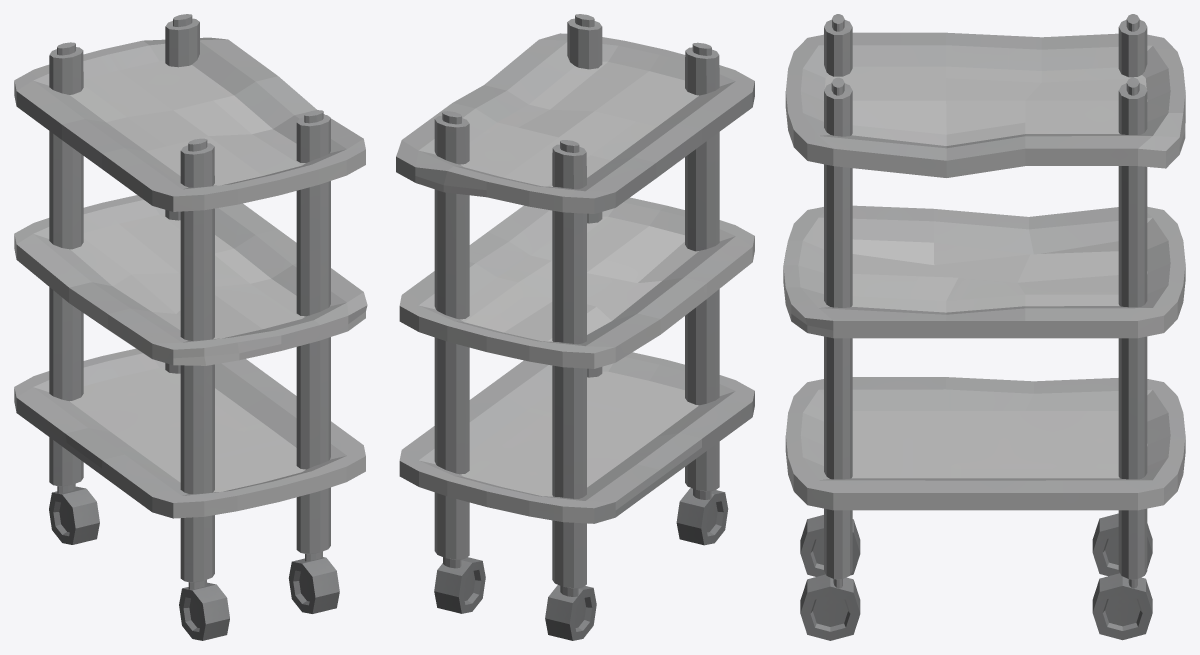
File: tray_1.glb
3 renders of one model, left to right at view 1: azimuth 30°, elevation 25°; view 2: azimuth 150°, elevation 25°; view 3: azimuth 270°, elevation 25°, orthographic. The views are drawn at different scales.
Visible parts, largest first — view 1: tray_1; view 2: tray_1; view 3: tray_1.
Boxes of the visible parts, x1,y1,x2,y2 form: tray_1: (14,14,367,640); tray_1: (396,14,754,640); tray_1: (783,14,1185,640).
Size of the model in its own units: 0.348 by 0.7606 by 0.501.
1 material, 1 textured.
